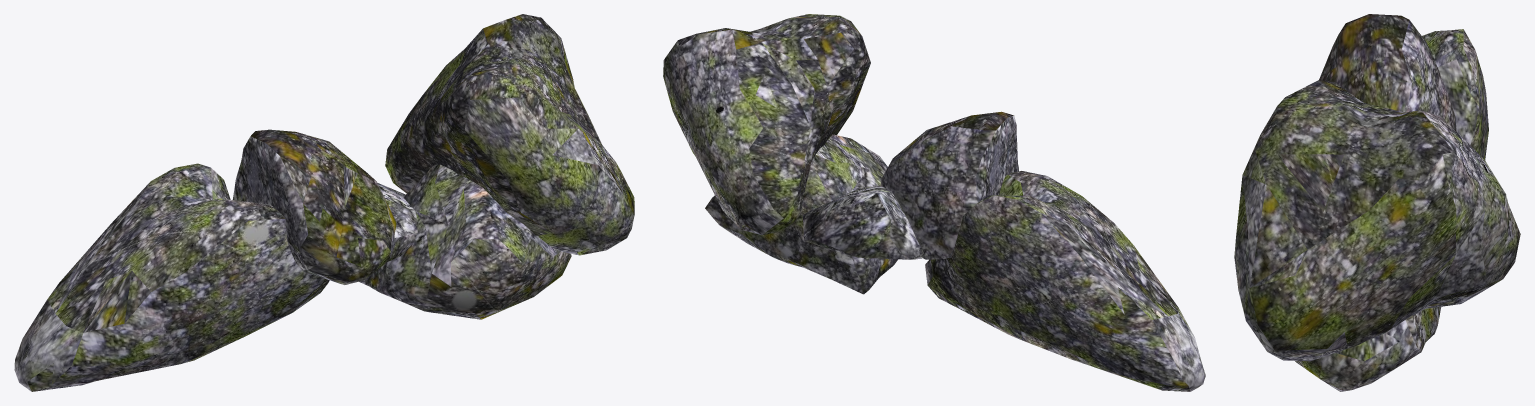
File: piedra.fbx
3 views of the same model, side by side, from view 1: azimuth 30°, elevation 25°; view 2: azimuth 150°, elevation 25°; view 3: azimuth 270°, elevation 25° (orthographic). The views are drawn at different scales.
Parts seen in each view (by area): view 1: rock.007; view 2: rock.007; view 3: rock.007.
Part boxes in pixels (x1,y1,x2,y2): rock.007: (14, 14, 634, 391); rock.007: (663, 14, 1205, 391); rock.007: (1234, 14, 1520, 391).
Size of the model in its own units: 336 by 149 by 131.
1 material, 1 textured.
